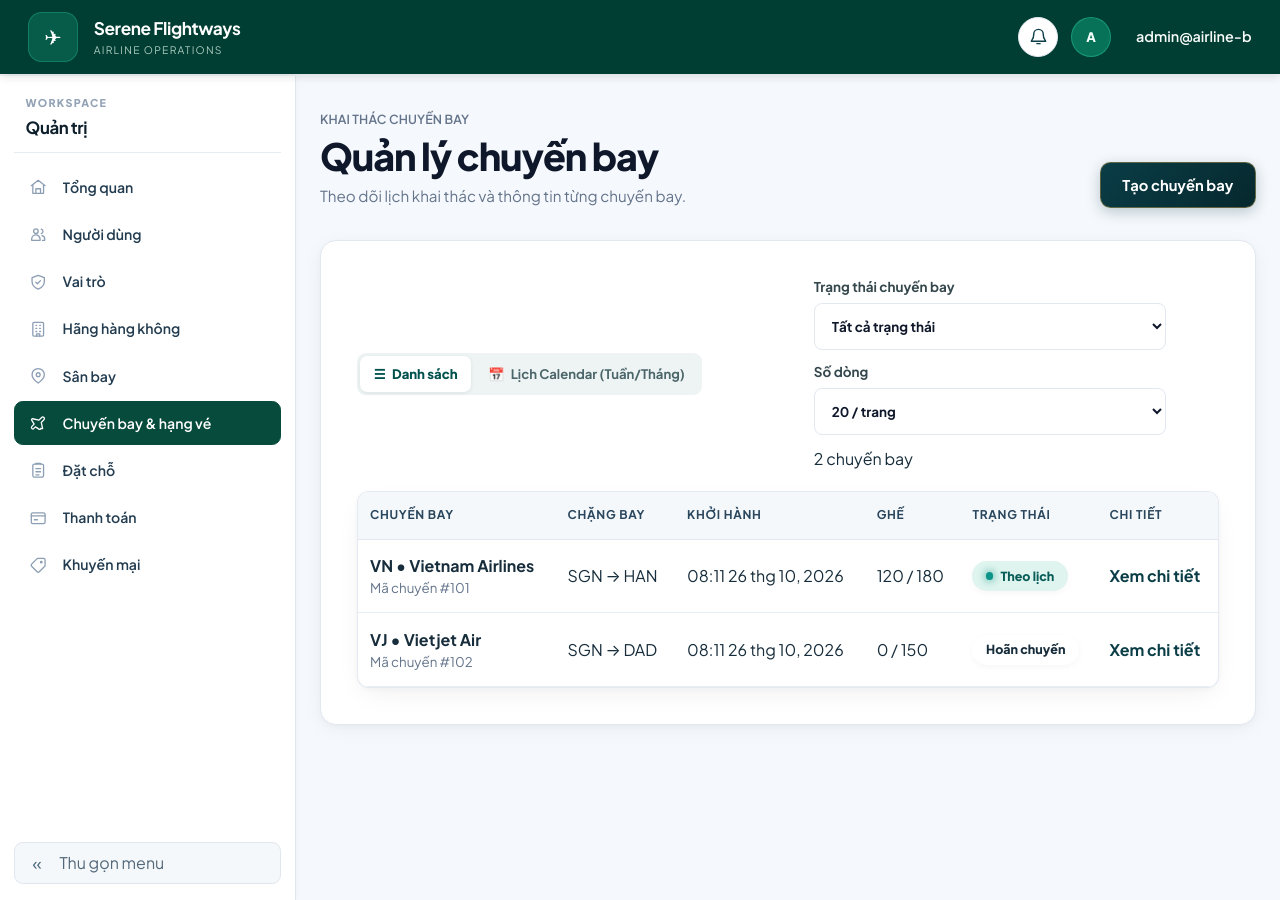
Test: FlightListPage view toggle integration › supports toggling between Table view and Calendar view
Expected: the table named "Danh sách chuyến bay" is shown, x1=358 y1=492 x2=1218 y2=687
Switch to calendar
Click the tab "📅 Lịch Calendar (Tuần/Tháng)". click: (586, 374)
box: x1=474 y1=356 x2=698 y2=392
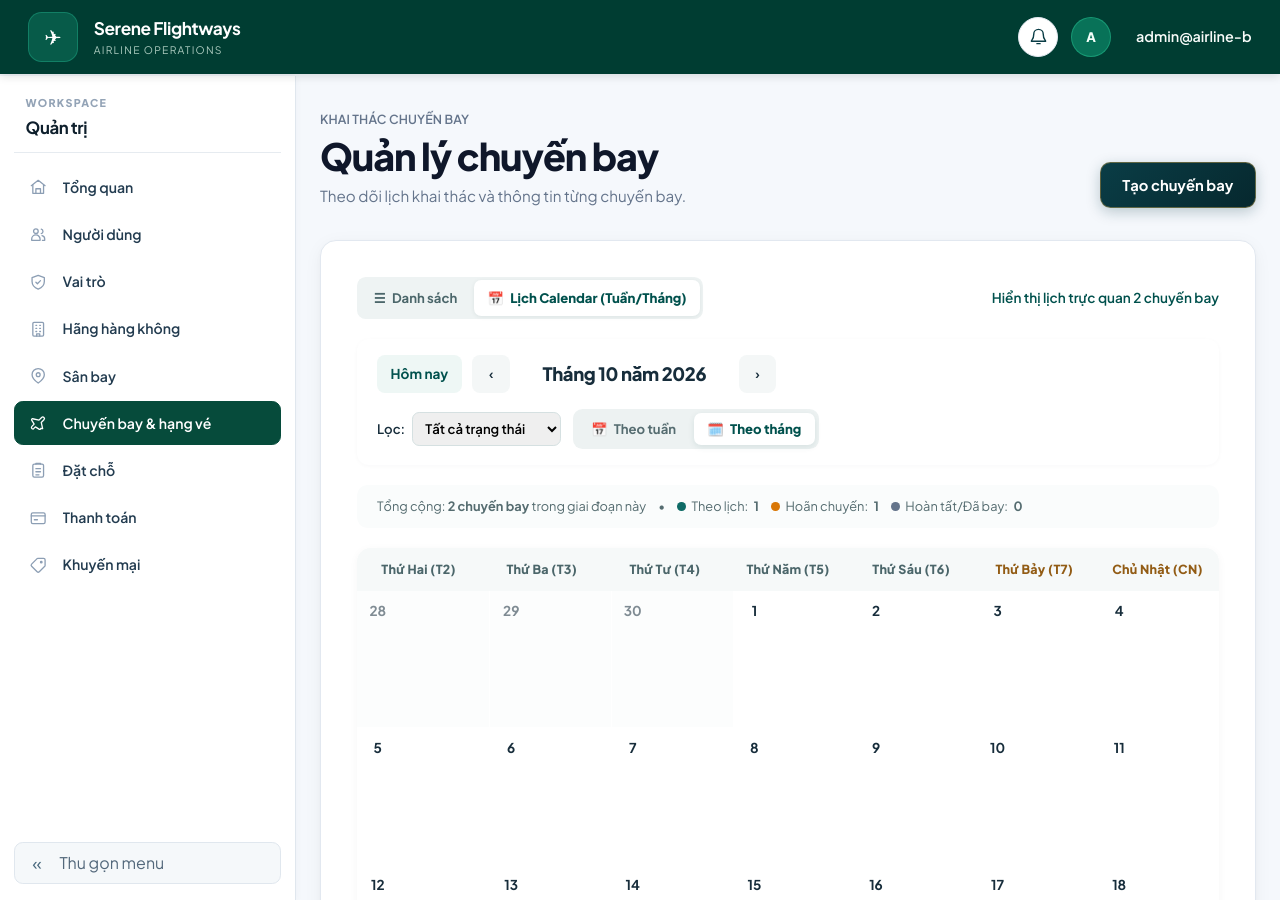
Now the element named "Chế độ xem lịch" is shown, box x1=573 y1=409 x2=819 y2=449
